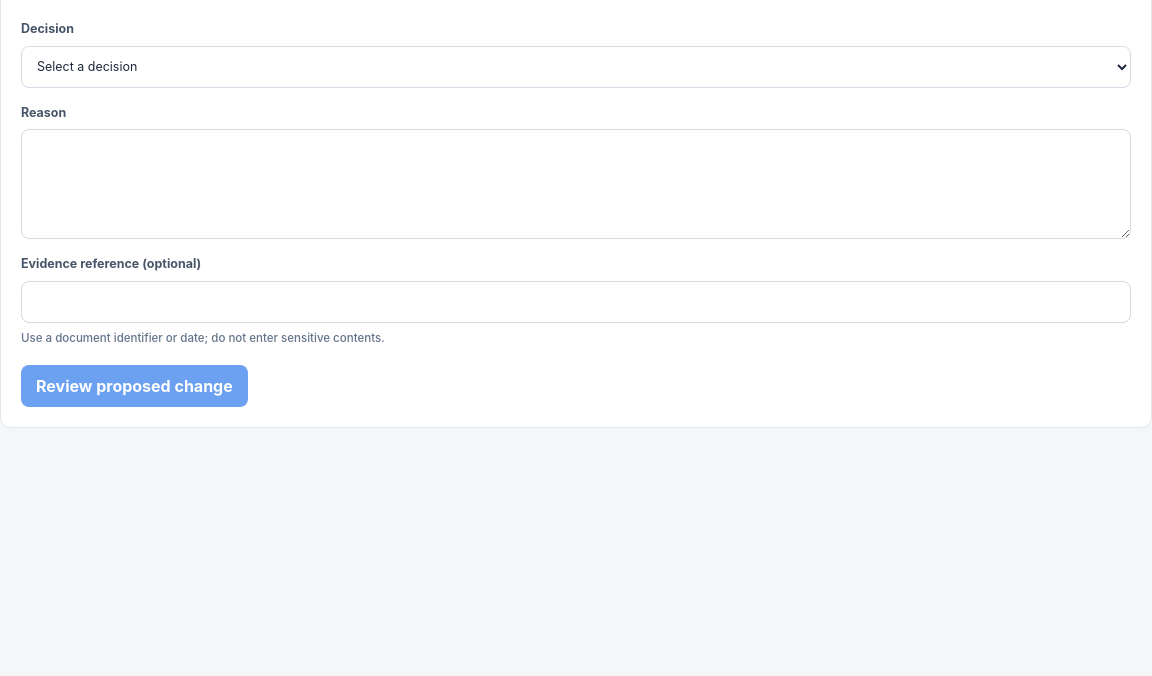
Payroll evidence review UI › requires an independent reference and shows every competitor disposition before atomic resolution
This screenshot has width=1152, height=676.
Select "Verify independent evidence" in the dropdown labelled "Decision" at (576, 67), box [21,46,1131,88]
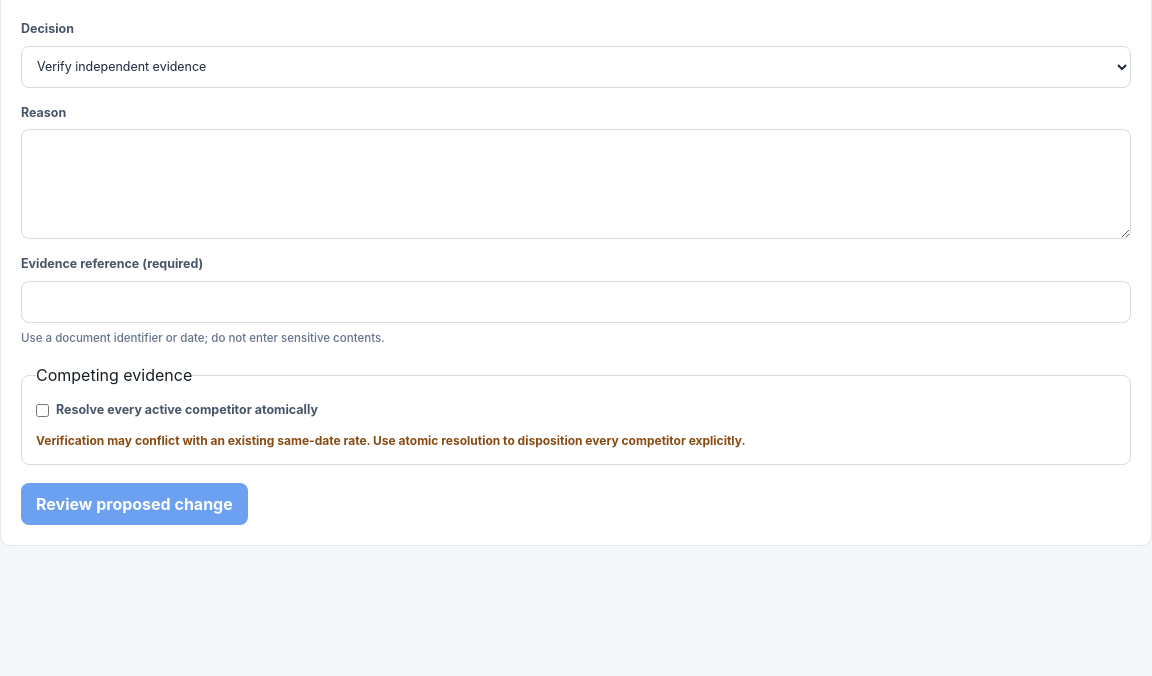
Type "Owner reviewed wage notice." into the text box labelled "Reason" at (576, 184), box [21,129,1131,239]
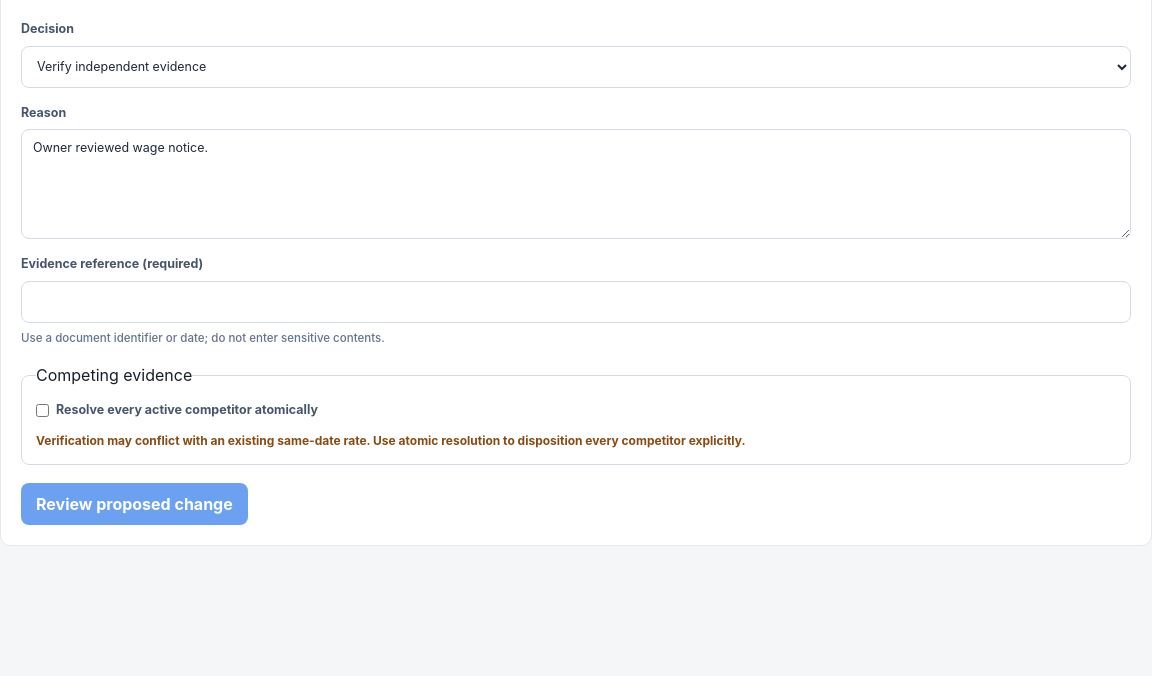
Check: the button "Review proposed change" is disabled, box [21,483,248,525]
Type "Wage notice 2026-10-01 #SYN" into the field labelled "Evidence reference" at (576, 302), box [21,281,1131,323]
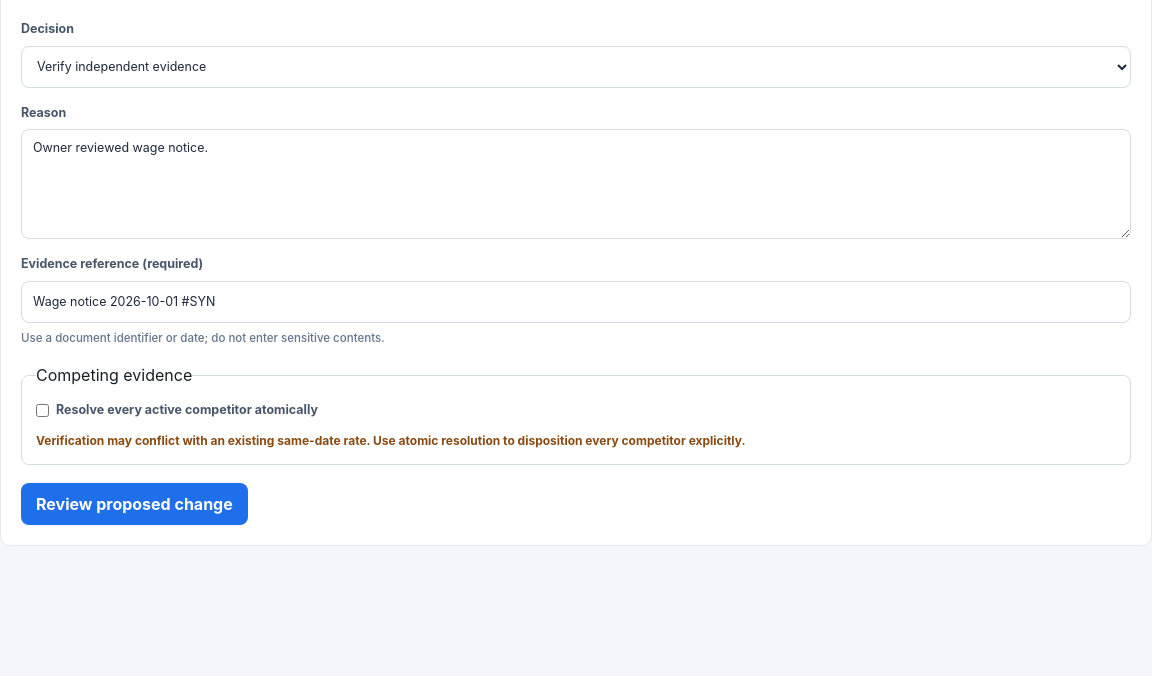
Click the checkbox labelled "Resolve every active competitor atomically" at (42, 411), box [36,404,49,417]
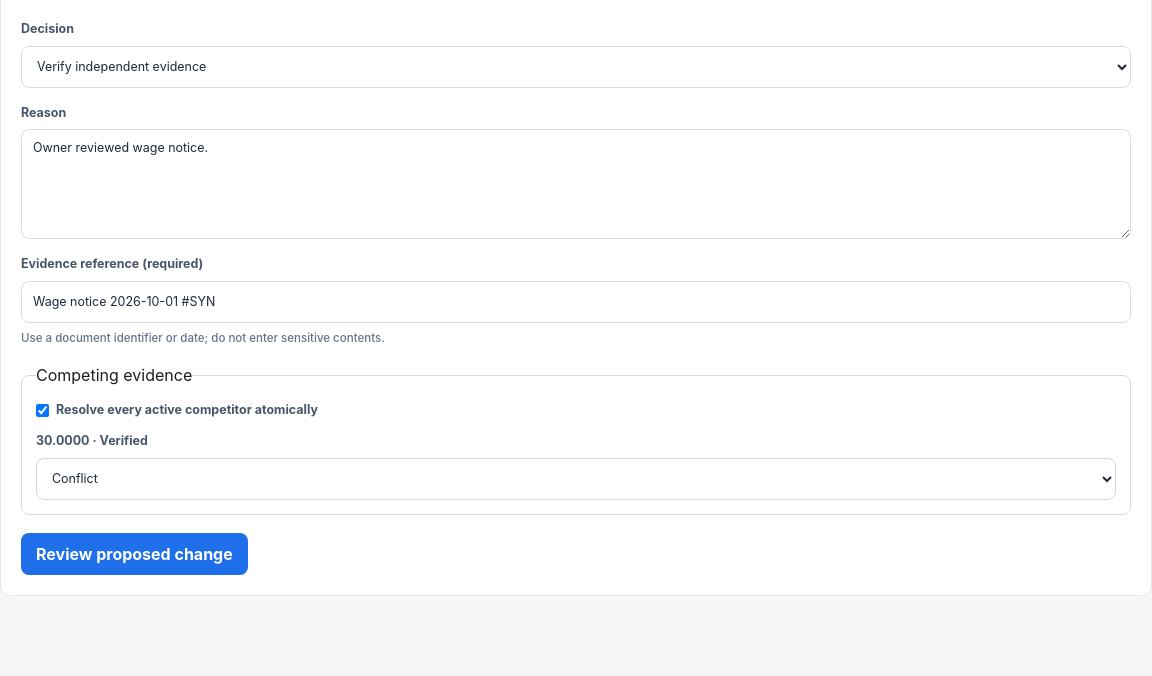
Select "Excluded" in the dropdown labelled "30.0000 · Verified" at (576, 479), box [36,458,1116,500]
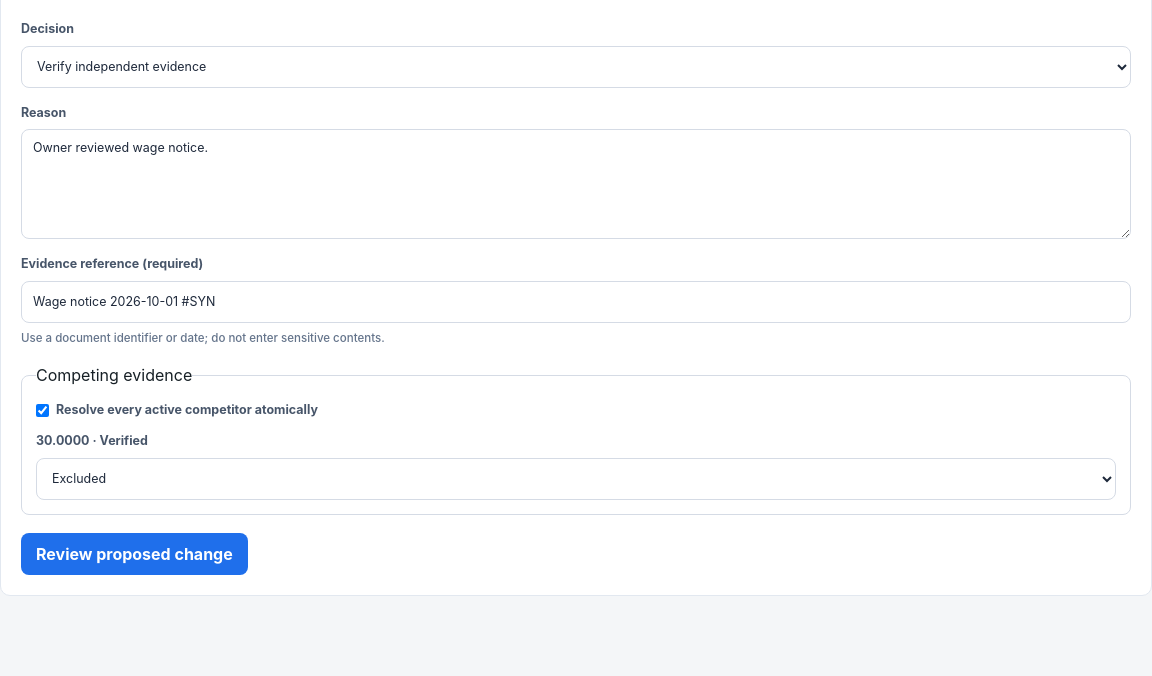
Click the button "Review proposed change" at (134, 554), box [21,533,248,575]
(page scrolled)
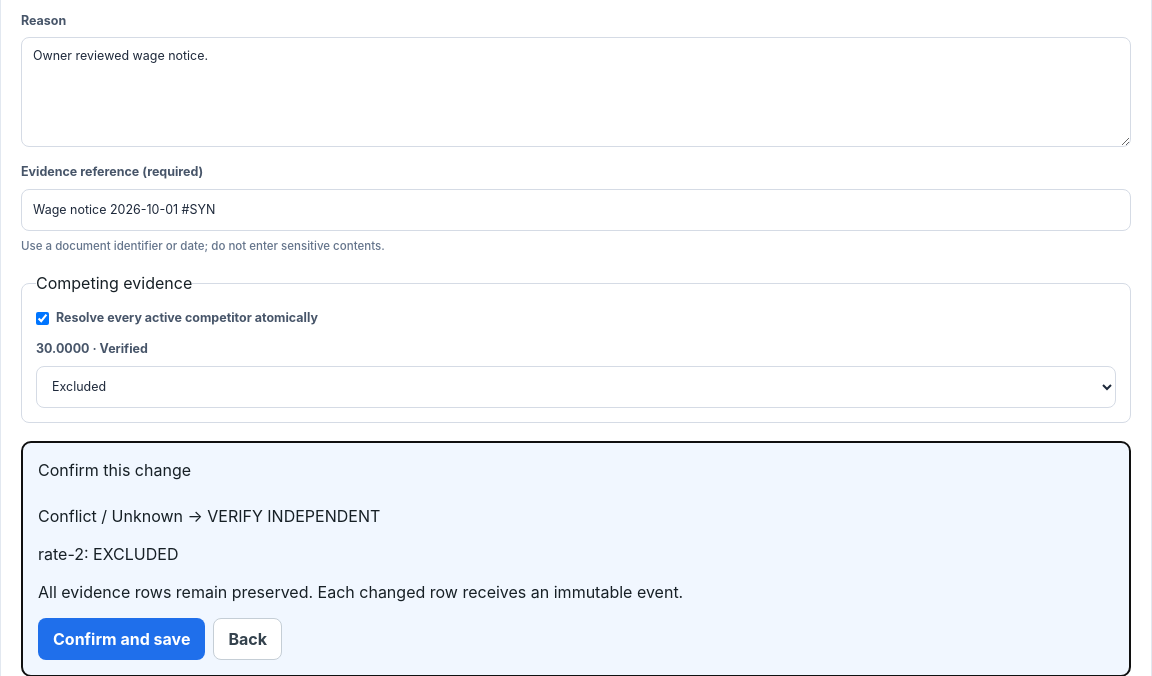
Check: the list item "rate-2: EXCLUDED" is shown, box [38,544,178,564]
